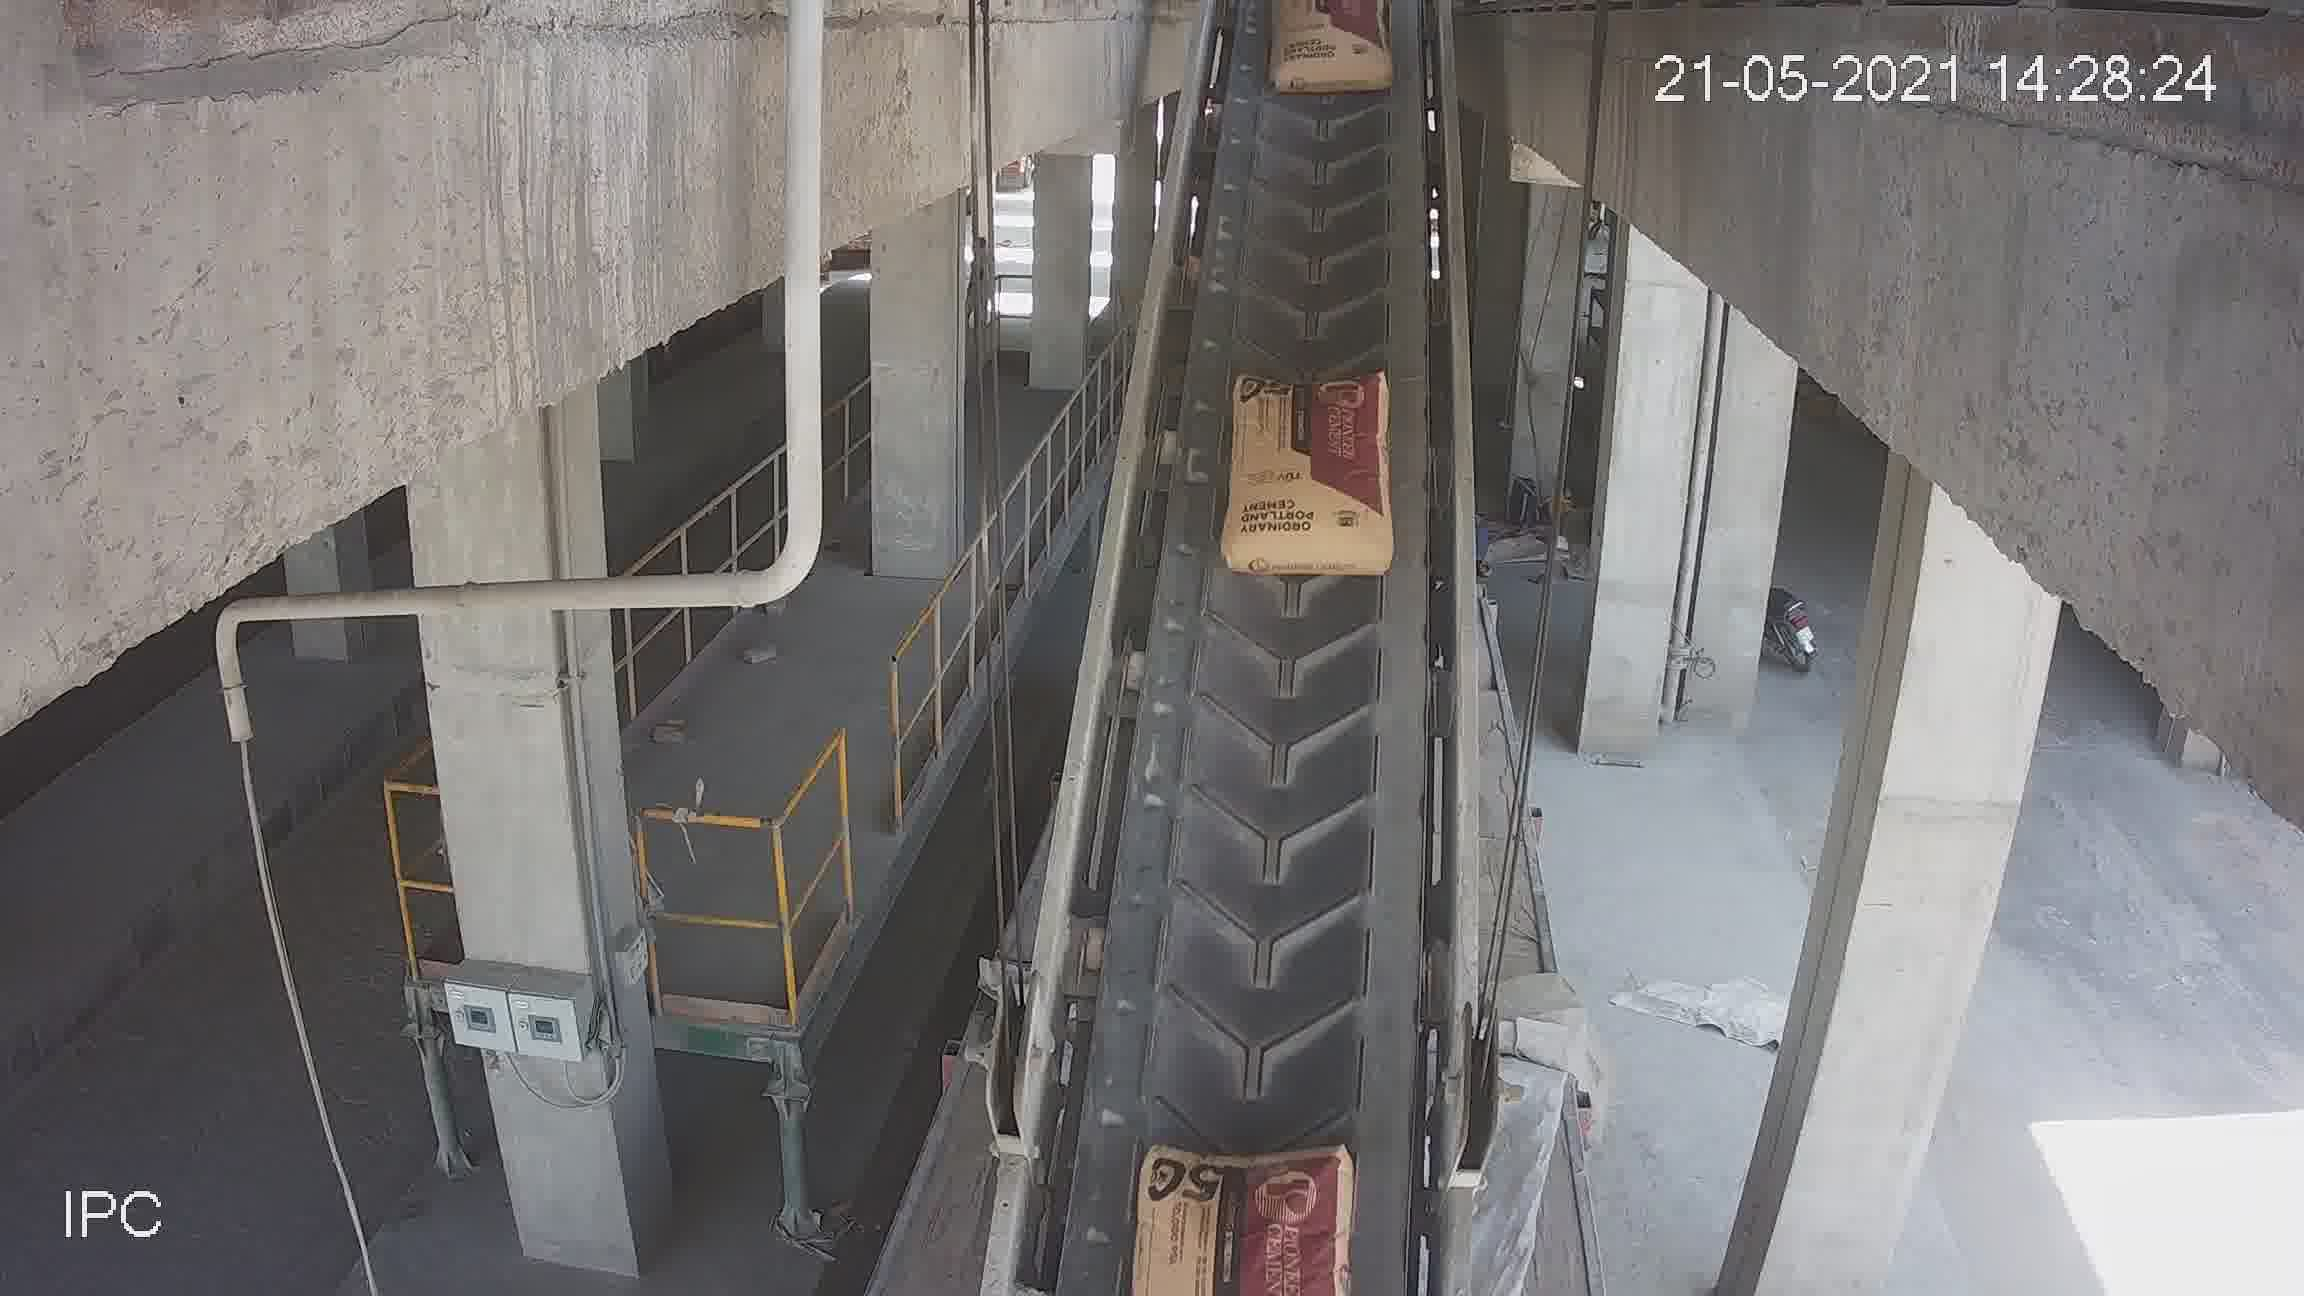bag: (1141, 1133, 1358, 1296), (1233, 369, 1378, 578), (1271, 9, 1378, 92)
belt: (1033, 30, 1491, 1282)
